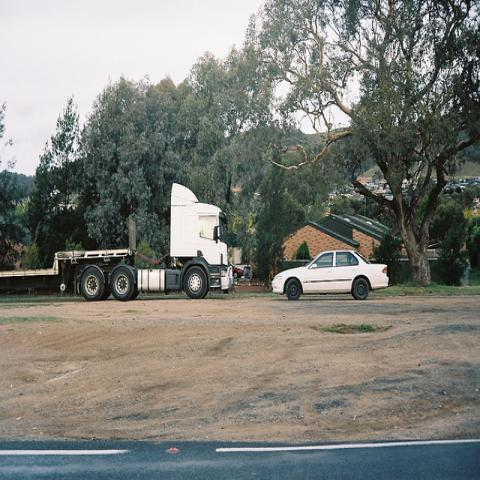car: (272, 247, 389, 301), (232, 264, 243, 278)
truck: (4, 177, 239, 305)
